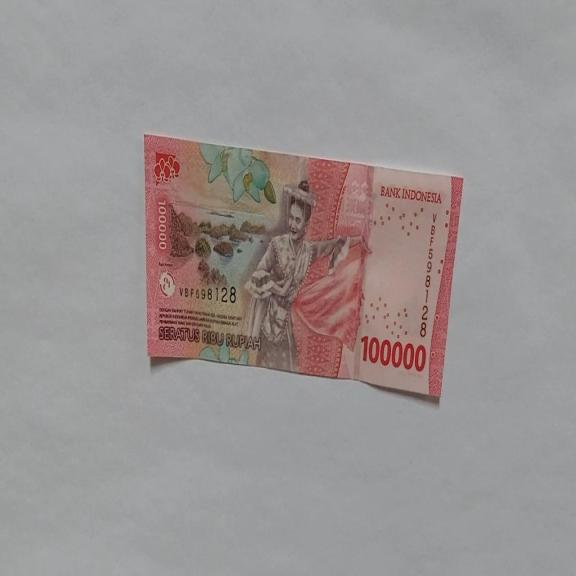Kertas: (143, 132, 464, 402), (360, 333, 427, 373)
